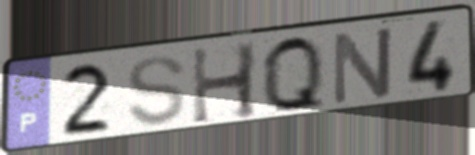2: (59, 60, 116, 140)
4: (403, 16, 460, 96)
H: (190, 39, 261, 128)
N: (329, 23, 396, 109)
Q: (259, 32, 329, 116)
S: (124, 53, 189, 128)
